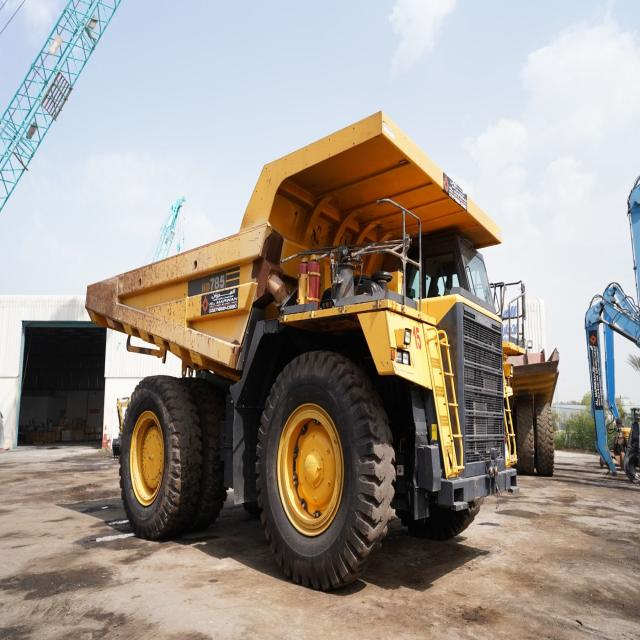dump_truck: (84, 109, 517, 591)
